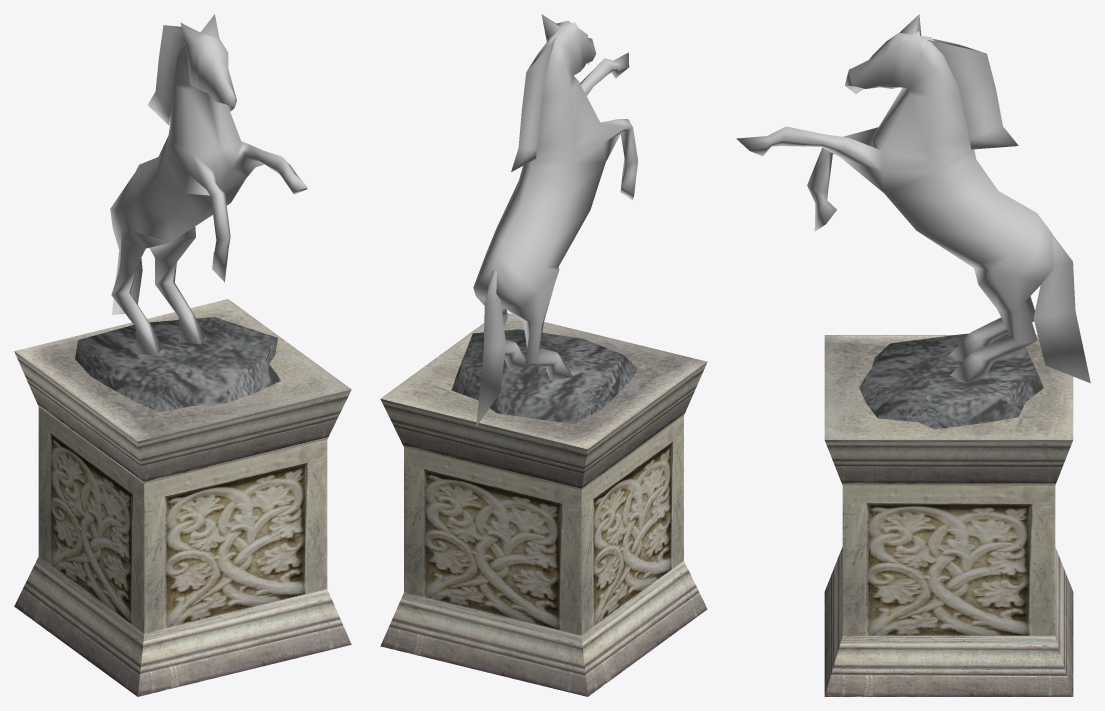
The model's file is HorseStatue.fbx.
3 renders of one model, left to right at view 1: azimuth 30°, elevation 25°; view 2: azimuth 150°, elevation 25°; view 3: azimuth 270°, elevation 25°, orthographic. The views are drawn at different scales.
Parts seen in each view (by area): view 1: Cube; view 2: Cube; view 3: Cube.
Part boxes in pixels (bbox=[...]): Cube: bbox=[14, 14, 351, 696]; Cube: bbox=[380, 14, 707, 696]; Cube: bbox=[736, 14, 1090, 696].
Size of the model in its own units: 200 by 552 by 285.
